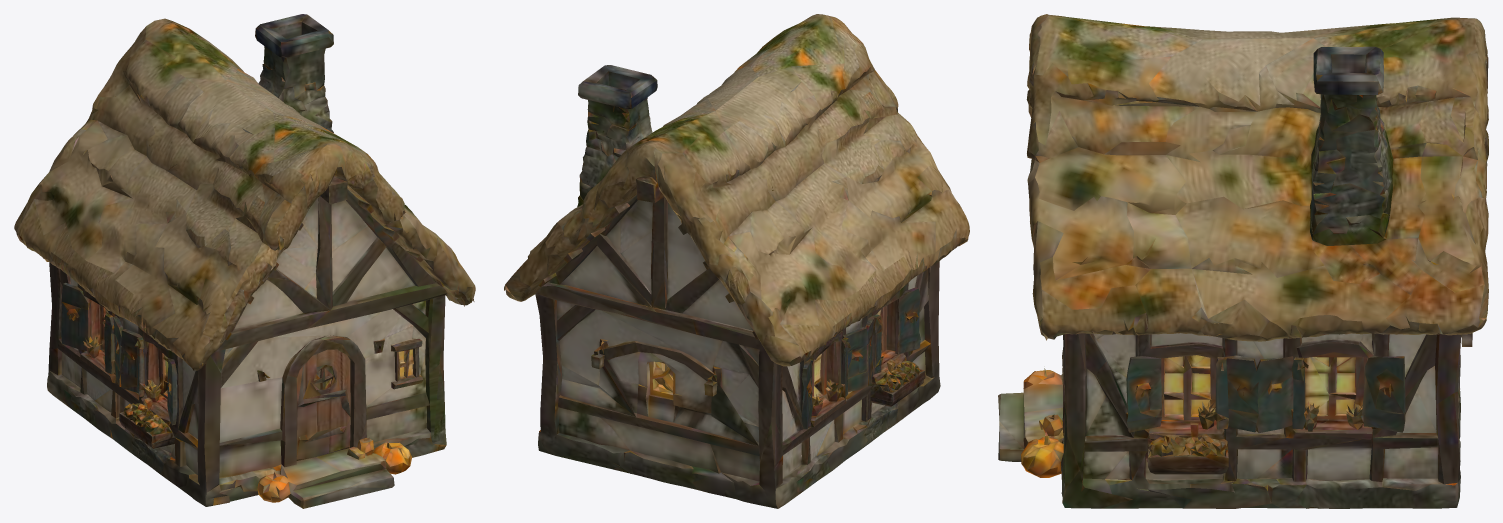
Rendered from cottage.glb.
3 views of the same model, side by side, from view 1: azimuth 30°, elevation 25°; view 2: azimuth 150°, elevation 25°; view 3: azimuth 270°, elevation 25° (orthographic). The views are drawn at different scales.
Visible parts, largest first — view 1: Mesh_0; view 2: Mesh_0; view 3: Mesh_0.
Part boxes in pixels (left/top/right/bottom): Mesh_0: left=14, top=14, right=475, bottom=508; Mesh_0: left=504, top=14, right=969, bottom=508; Mesh_0: left=998, top=14, right=1488, bottom=508.
Bounding box in the file's own units: 1.61 × 1.82 × 1.9.
Materials: 1 (1 with a texture image).
